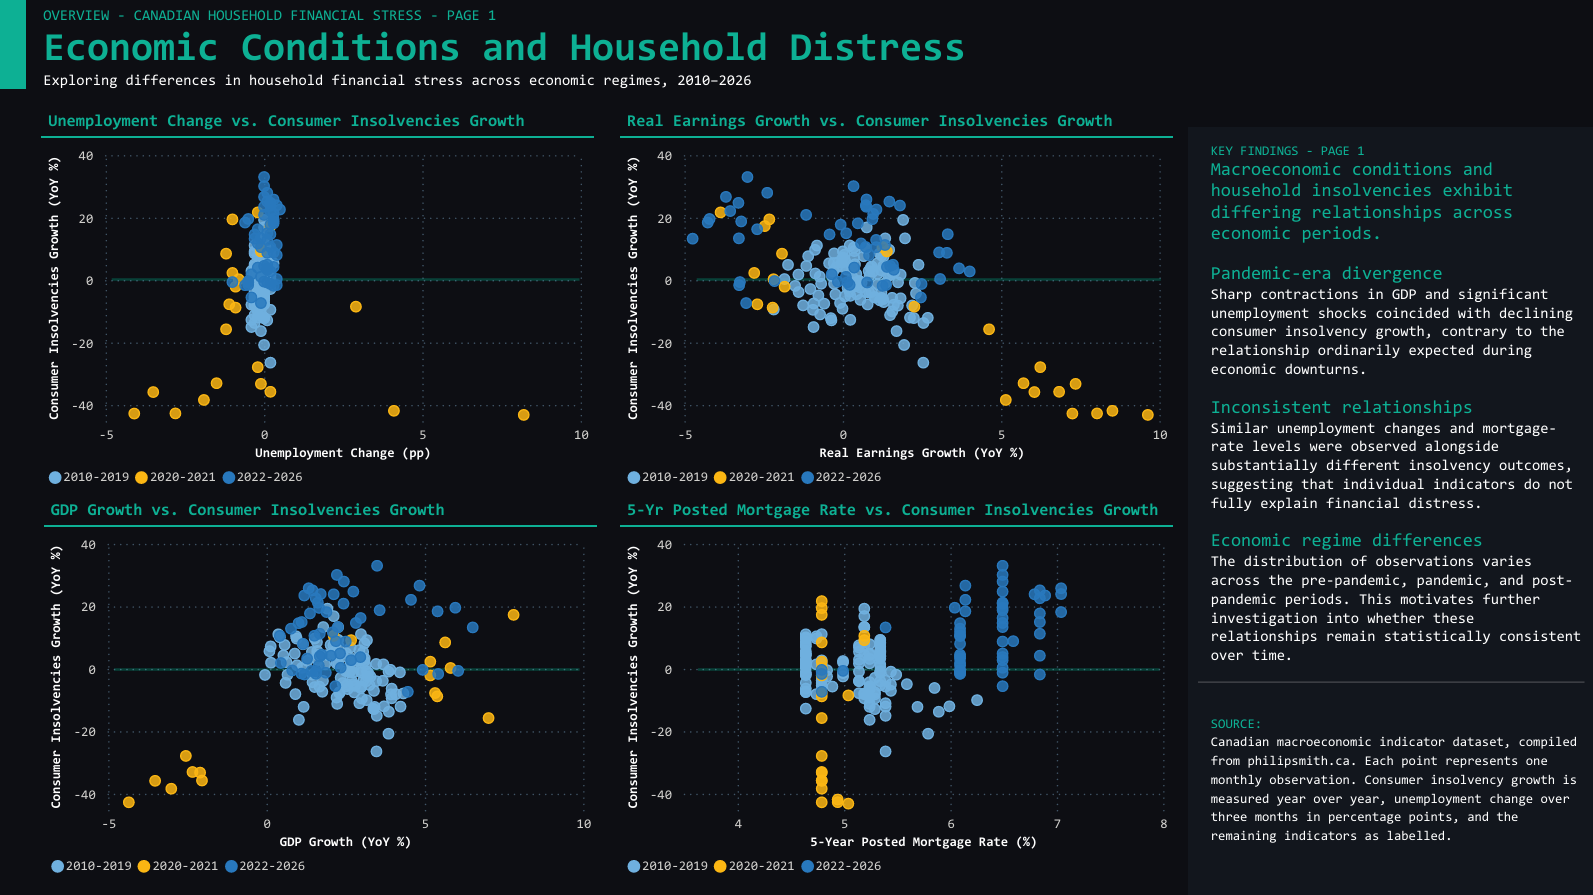

Layout of this report page (visuals, bound fields, positions):
{"tool":"powerbi","page":{"name":"Page 1","canvas":[1280,720],"ordinal":0},"visuals":[{"type":"shape","box":[560,210,371,29],"z":0},{"type":"shape","box":[560,522,371,29],"z":1000},{"type":"shape","box":[94,522,372,29],"z":2000},{"type":"shape","box":[92,210,374,29],"z":3000},{"type":"shape","box":[952.7,102.7,327.3,617.3],"z":4000},{"type":"textbox","box":[31.8,0,771.8,80.9],"z":5000},{"type":"shape","box":[0,0,23,72],"z":6000},{"type":"scatterChart","title":"Unemployment Change vs. Consumer Insolvencies Growth","fields":{"Series":["v_household_stress_features_insolvency_overview.economic_period"],"Y":["v_household_stress_features_insolvency_overview.insolvencies_yoy"],"X":["v_household_stress_features_insolvency_overview.unemployment_change_3m_pp"]},"box":[36,90,442,310],"z":7000},{"type":"scatterChart","title":"Real Earnings Growth vs. Consumer Insolvencies Growth","fields":{"Series":["v_household_stress_features_insolvency_overview.economic_period"],"Y":["v_household_stress_features_insolvency_overview.insolvencies_yoy"],"X":["v_household_stress_features_insolvency_overview.real_earnings_yoy"]},"box":[499,90,442,310],"z":8000},{"type":"scatterChart","title":"GDP Growth vs. Consumer Insolvencies Growth","fields":{"Series":["v_household_stress_features_insolvency_overview.economic_period"],"Y":["v_household_stress_features_insolvency_overview.insolvencies_yoy"],"X":["v_household_stress_features_insolvency_overview.GDP Growth (YoY)"]},"box":[38,401,442,310],"z":9000},{"type":"scatterChart","title":"5-Yr Posted Mortgage Rate vs. Consumer Insolvencies Growth","fields":{"Series":["v_household_stress_features_insolvency_overview.economic_period"],"Y":["v_household_stress_features_insolvency_overview.insolvencies_yoy"],"X":["v_household_stress_features_insolvency_overview.Mortgage Rate (%)"]},"box":[499,401,442,310],"z":10000},{"type":"textbox","box":[961,103,319,441],"z":11000},{"type":"textbox","box":[961,561,319,142],"z":12000},{"type":"shape","box":[961,537,309,19],"z":13000}]}

Visuals, with their boxes in screenshot pixels (x1, y1, x2, y2), scaled from the page's 1280x720 canvas onto the 1593x895 screenshot:
shape: select_region(697, 261, 1159, 297)
shape: select_region(697, 649, 1159, 685)
shape: select_region(117, 649, 580, 685)
shape: select_region(114, 261, 580, 297)
shape: select_region(1186, 128, 1592, 894)
textbox: select_region(40, 0, 1000, 101)
shape: select_region(0, 0, 29, 90)
"Unemployment Change vs. Consumer Insolvencies Growth" scatterChart: select_region(45, 112, 595, 497)
"Real Earnings Growth vs. Consumer Insolvencies Growth" scatterChart: select_region(621, 112, 1171, 497)
"GDP Growth vs. Consumer Insolvencies Growth" scatterChart: select_region(47, 498, 597, 884)
"5-Yr Posted Mortgage Rate vs. Consumer Insolvencies Growth" scatterChart: select_region(621, 498, 1171, 884)
textbox: select_region(1196, 128, 1592, 676)
textbox: select_region(1196, 697, 1592, 874)
shape: select_region(1196, 668, 1581, 691)
